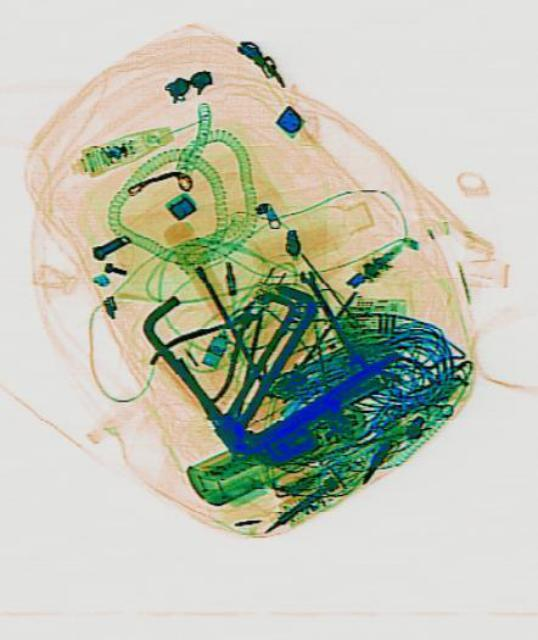Pliers: (145, 268, 283, 417)
Wrench: (294, 264, 361, 358)
